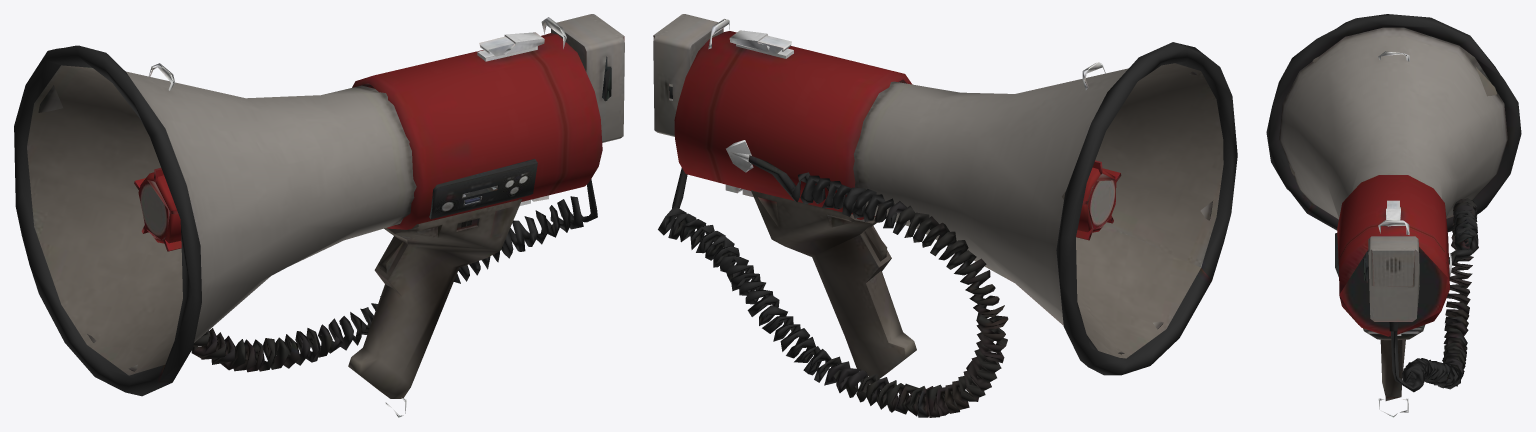
Rendered from Megaphone_01.glb.
3 renders of one model, left to right at view 1: azimuth 30°, elevation 25°; view 2: azimuth 150°, elevation 25°; view 3: azimuth 270°, elevation 25°, orthographic. The views are drawn at different scales.
Parts seen in each view (by area): view 1: Megaphone_01; view 2: Megaphone_01; view 3: Megaphone_01.
Part boxes in pixels (x1,y1,x2,y2): Megaphone_01: (14,14,624,417); Megaphone_01: (653,14,1237,417); Megaphone_01: (1266,14,1521,417).
Size of the model in its own units: 0.3707 by 0.299 by 0.2276.
Materials: 1 (1 with a texture image).
